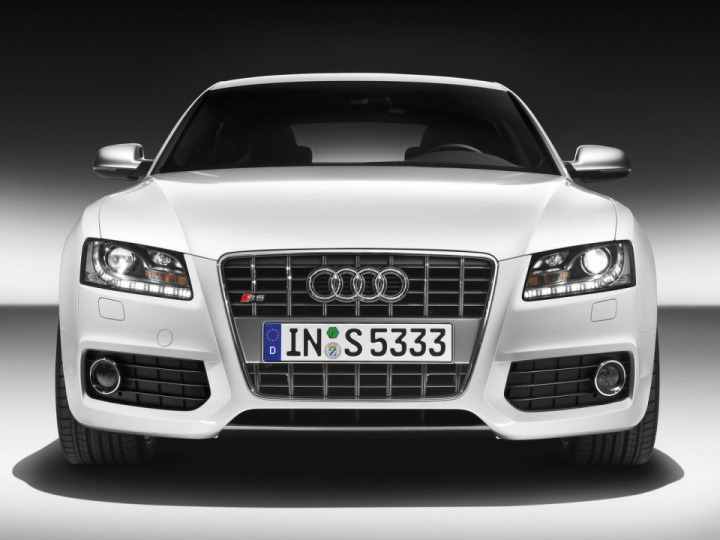audi: (301, 261, 421, 309)
